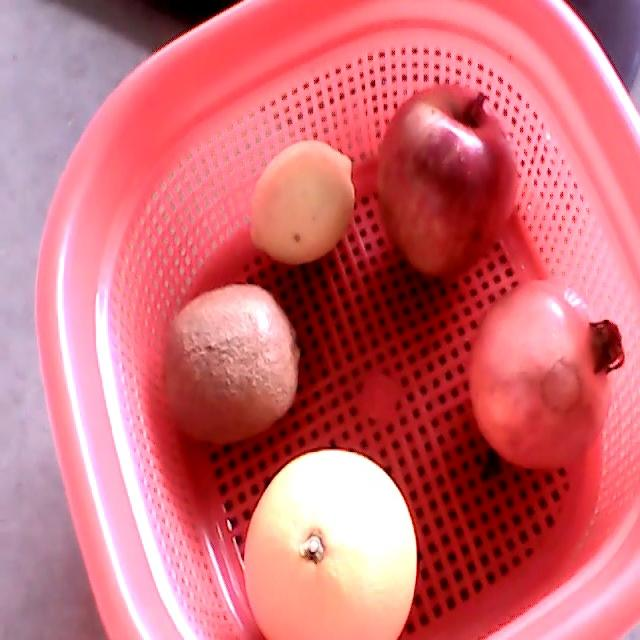apple: (379, 83, 521, 277)
kiwi: (162, 284, 298, 445)
lemon: (251, 139, 356, 265)
orange: (243, 451, 416, 639)
pomegranate: (469, 279, 624, 474)
